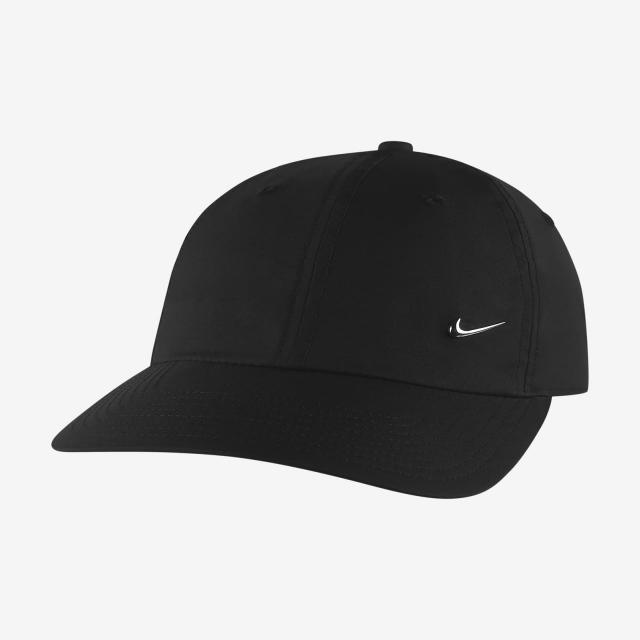mask: (73, 137, 597, 535)
